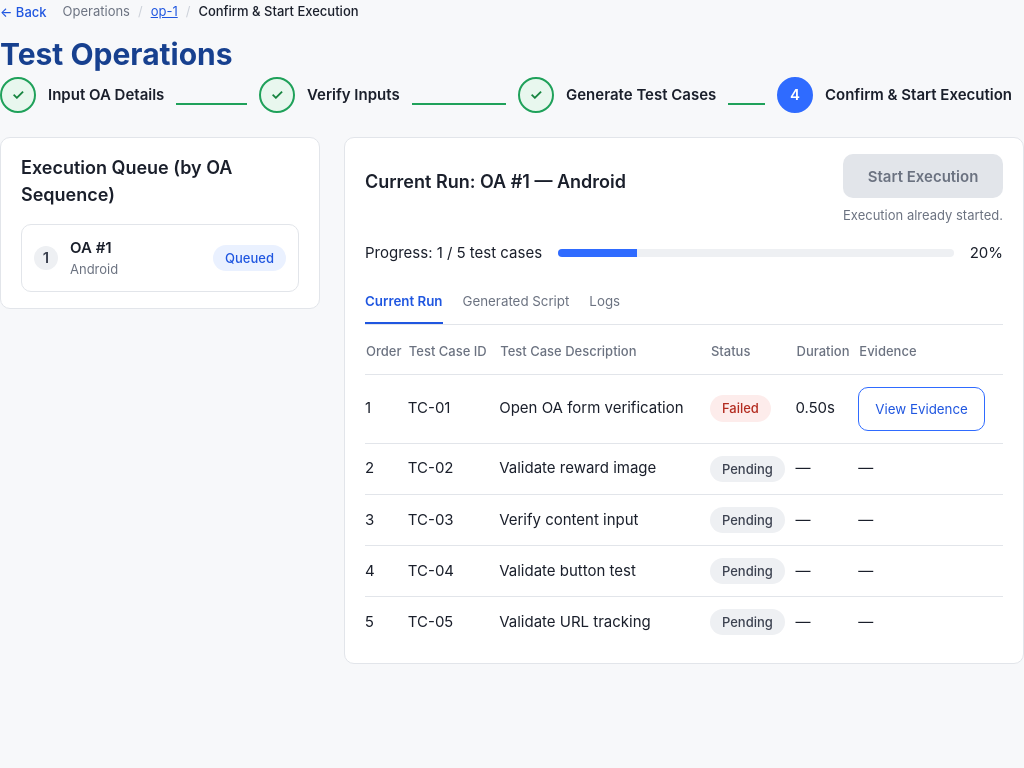
ExecuteScreen › enables View Evidence once the failed test case's result is fetched, and opens the evidence modal
Click the button "View Evidence". click: click(922, 408)
box: [858, 386, 985, 430]
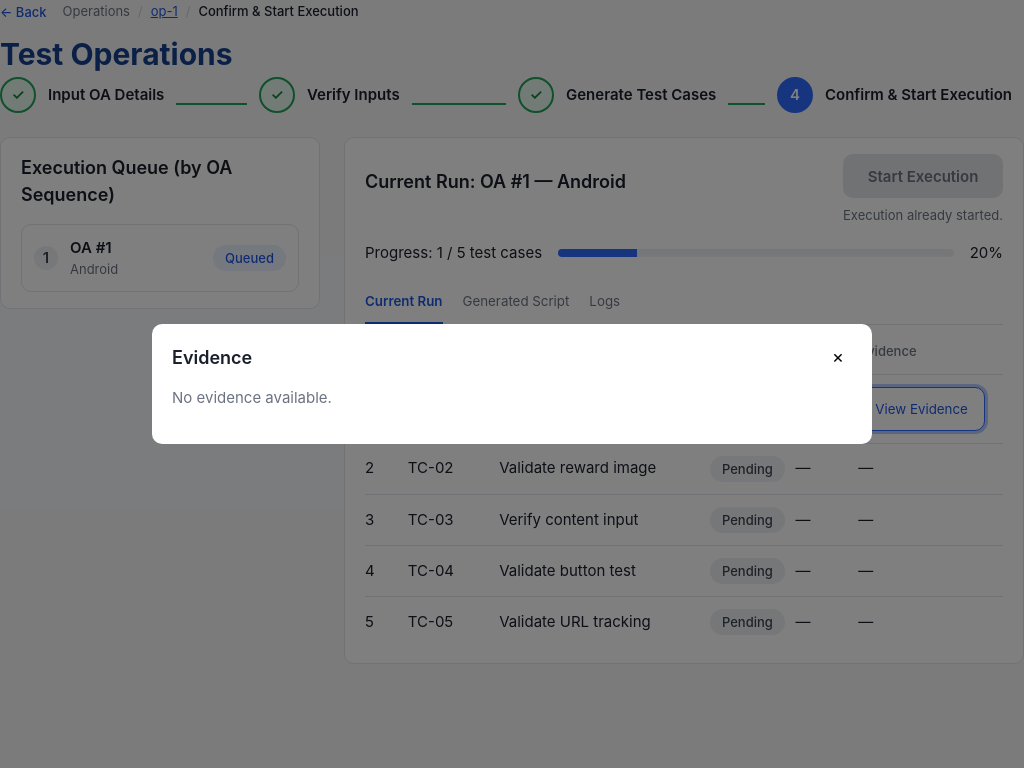
Check: the dialog "Evidence" is shown, box [152, 324, 872, 444]
